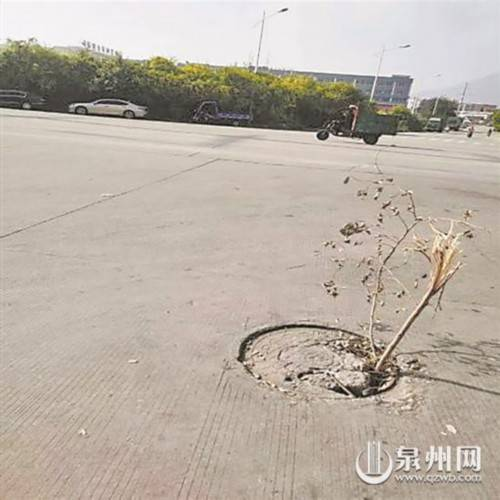broke: (219, 305, 419, 421)
